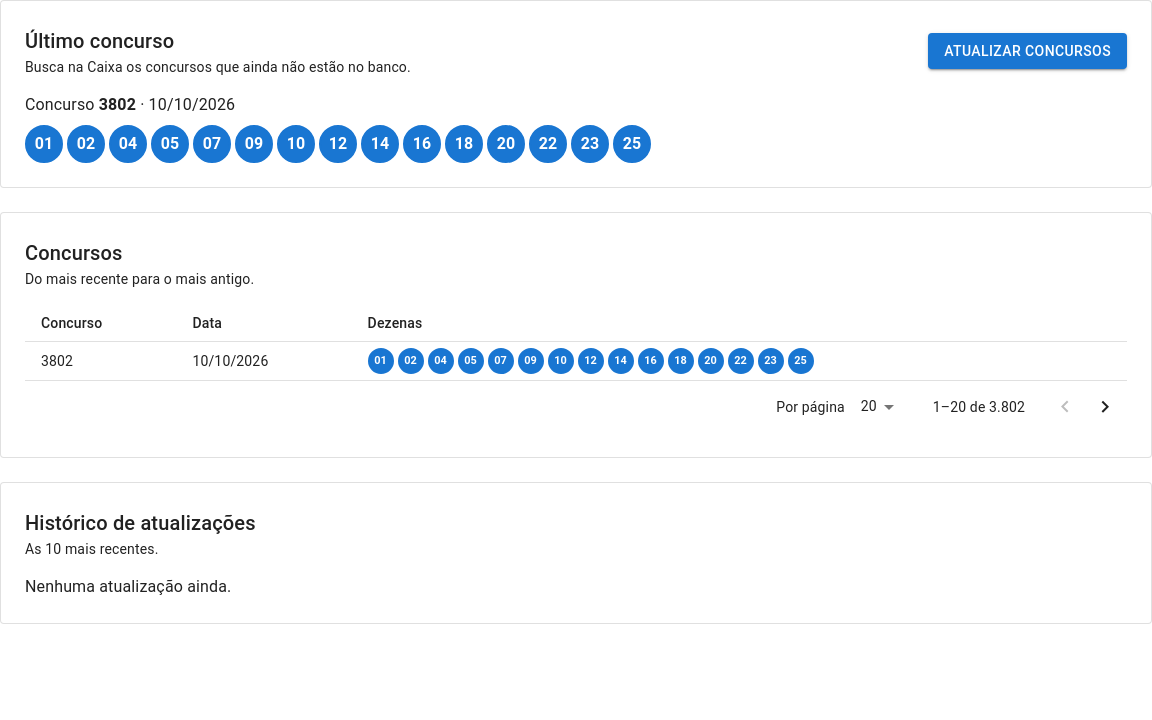
Test: Página de concursos › mostra o erro quando a Caixa está fora do ar
This screenshot has width=1152, height=720.
Click the button "Atualizar concursos" at (1028, 51), box [928,33,1127,69]
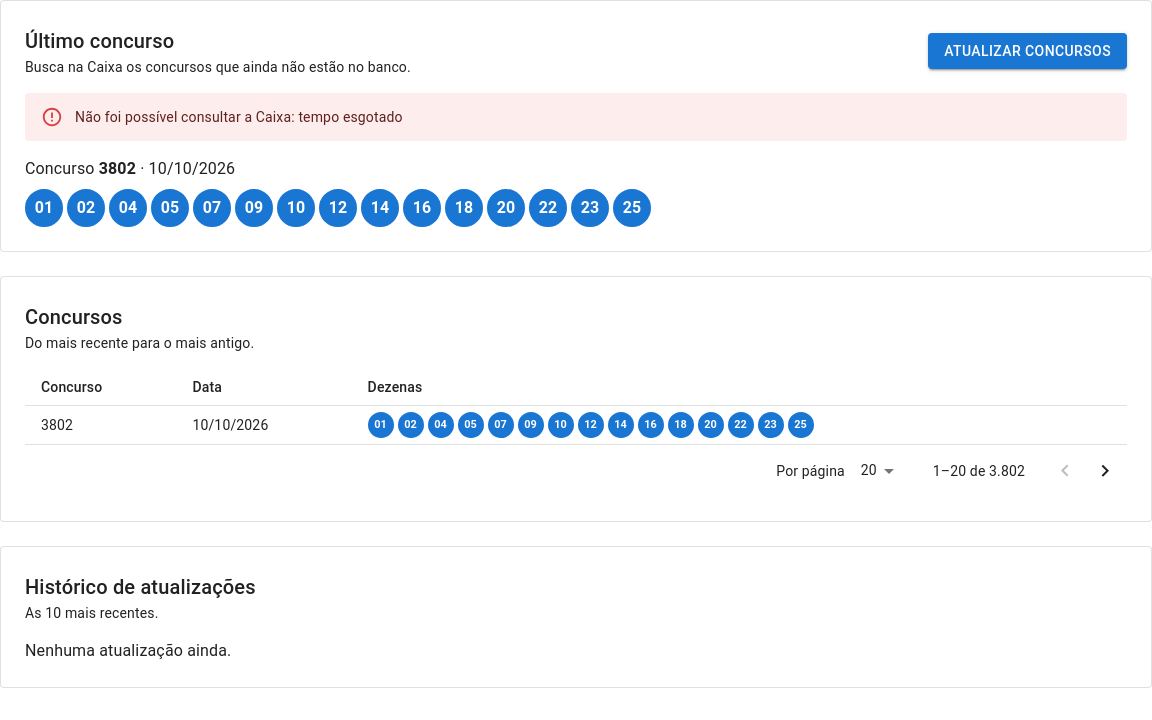
Now the text "Não foi possível consultar a Caixa: tempo esgotado" is shown, box [75,109,403,125]
